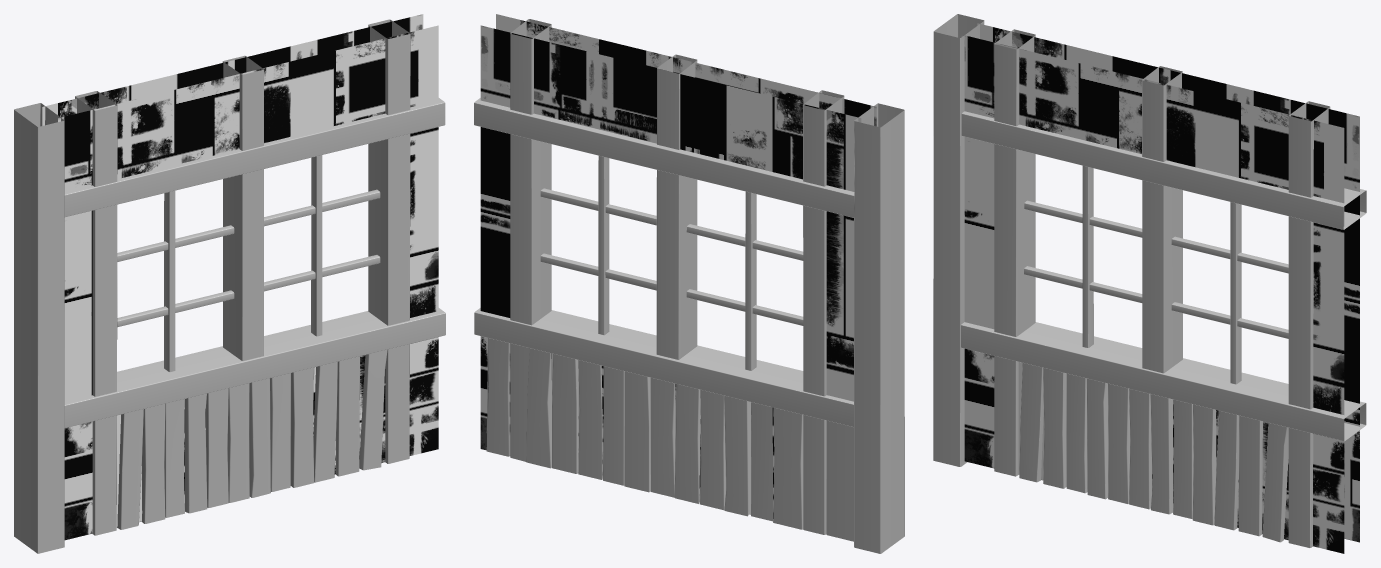
The model's file is SM_WallWindow02.fbx.
The picture shows the model from 3 angles, left to right: view 1: azimuth 30°, elevation 25°; view 2: azimuth 150°, elevation 25°; view 3: azimuth 330°, elevation 25°; orthographic projection.
Visible parts, largest first — view 1: SM_WallWindow02_LOD0; view 2: SM_WallWindow02_LOD0; view 3: SM_WallWindow02_LOD0.
Boxes of the visible parts, bbox=[...] form: SM_WallWindow02_LOD0: bbox=[14, 14, 445, 553]; SM_WallWindow02_LOD0: bbox=[474, 14, 904, 553]; SM_WallWindow02_LOD0: bbox=[933, 14, 1366, 553].
Size of the model in its own units: 303 by 31.03 by 303.
